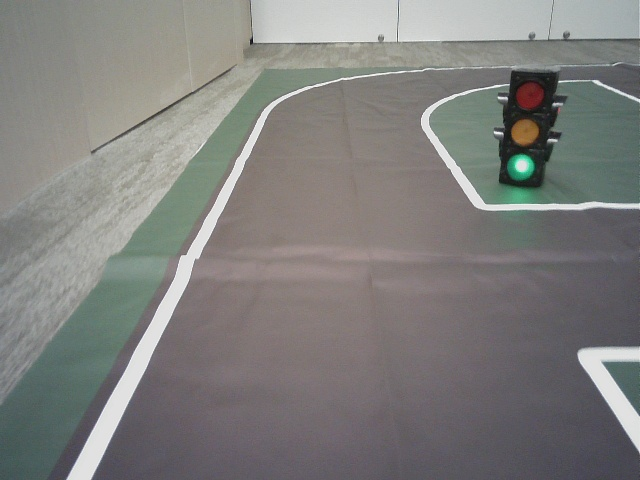green: (506, 73, 543, 183)
